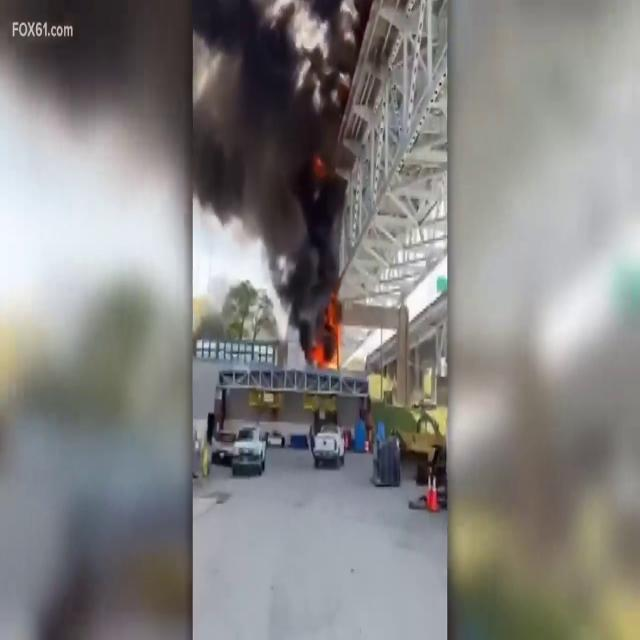Fire: (314, 304, 344, 371)
Smoke: (192, 1, 362, 318)
